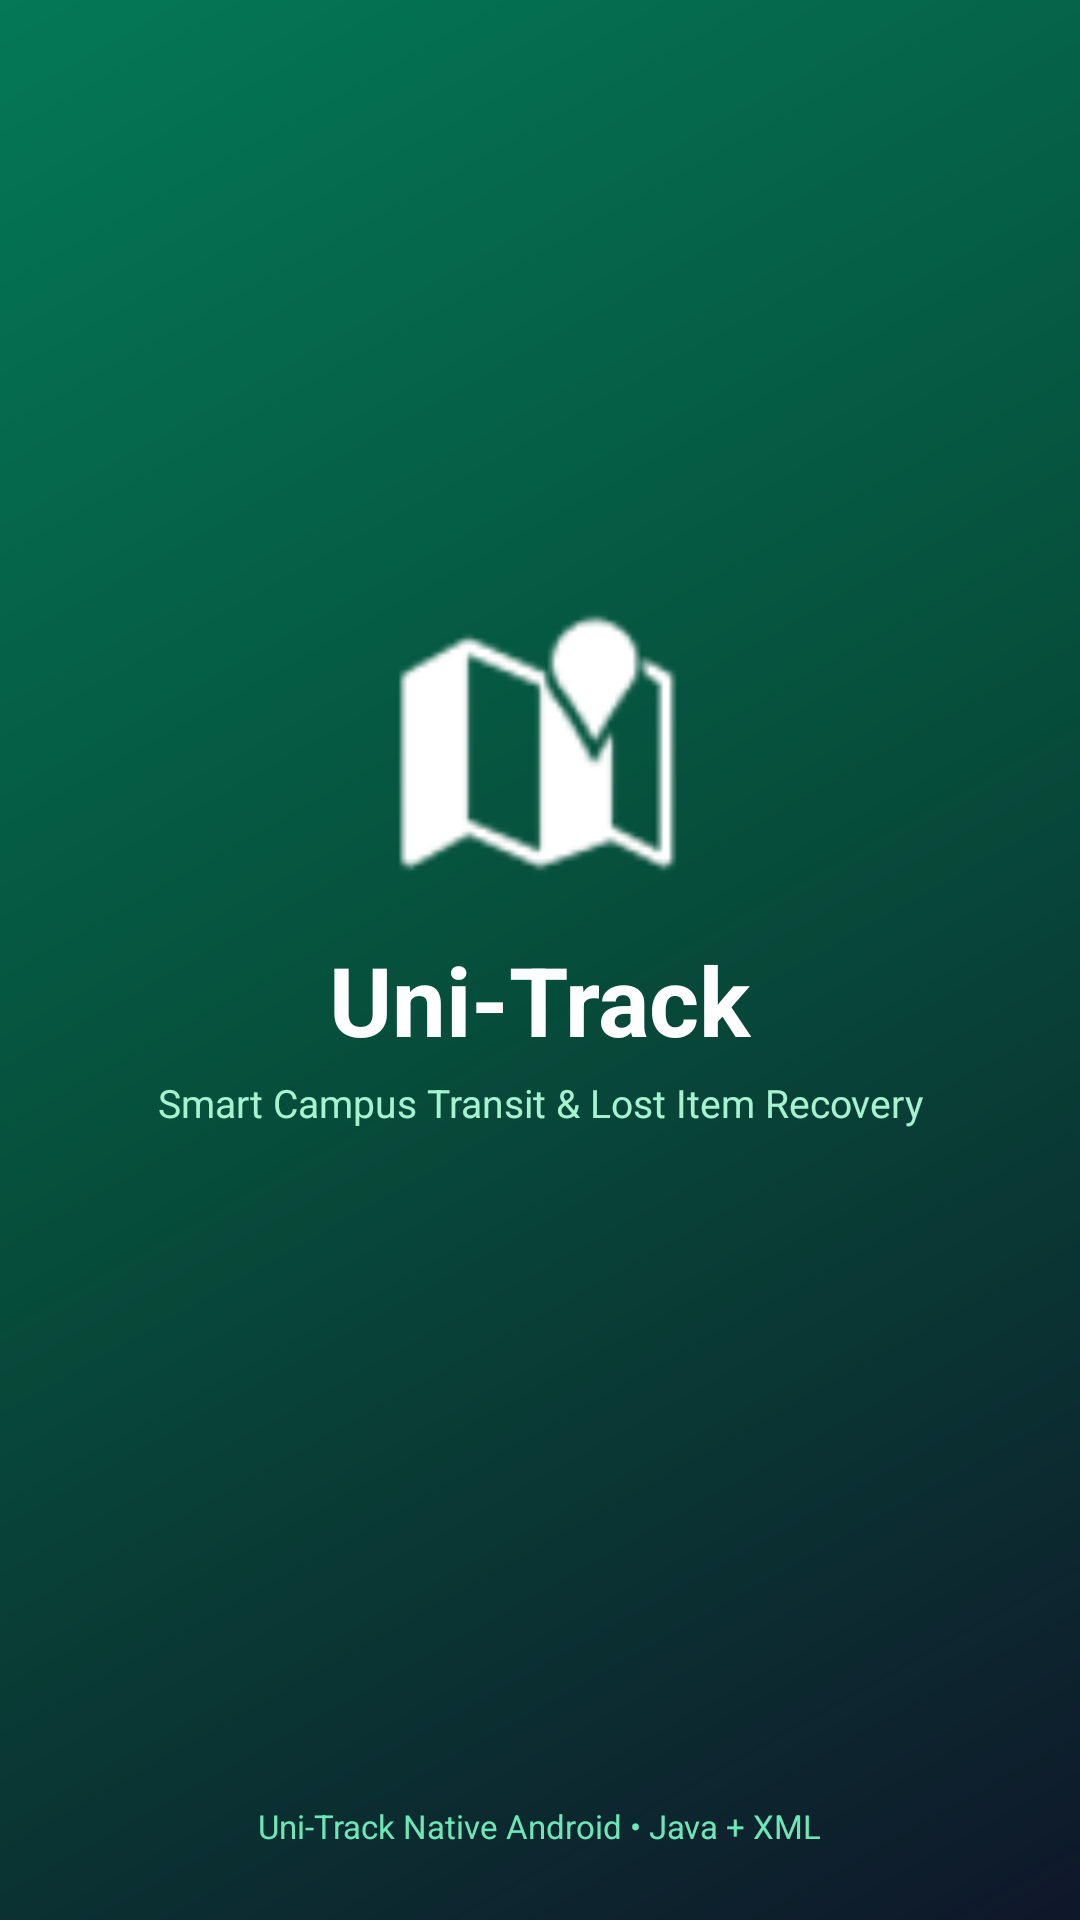

Point at icon controls on the screen. Image size 1080w x 1920h, points as [x,y].
map: [537,742]
